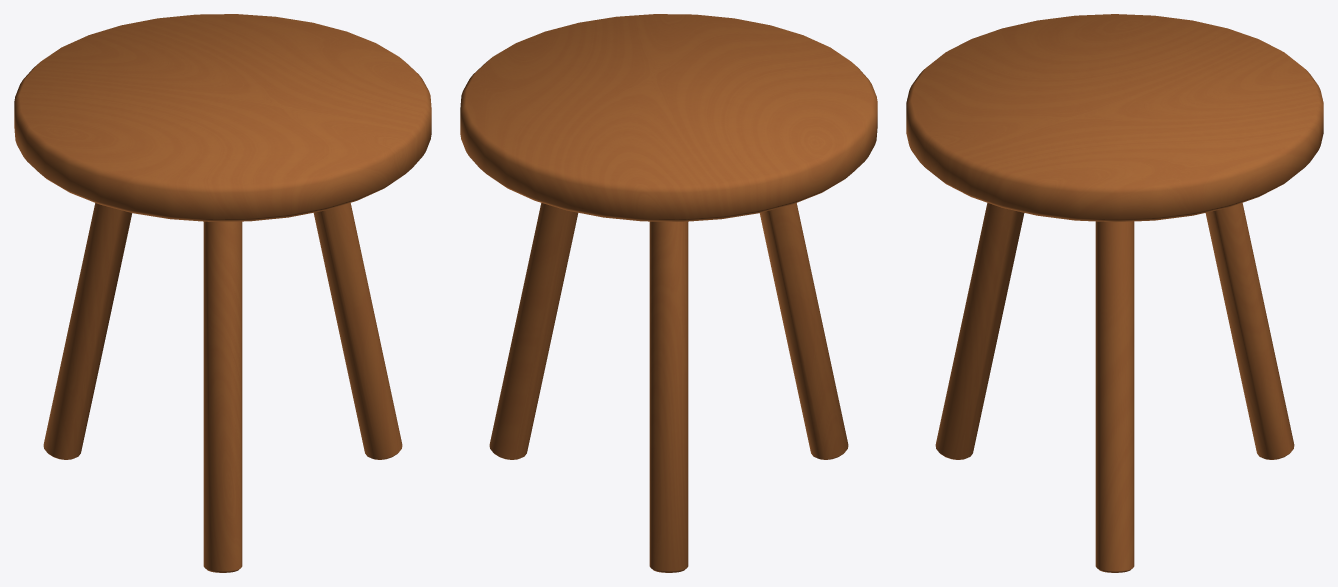
The model's file is 3_legged_wooden_stool_low_poly.glb.
3 views of the same model, side by side, from view 1: azimuth 30°, elevation 25°; view 2: azimuth 150°, elevation 25°; view 3: azimuth 270°, elevation 25° (orthographic).
Parts seen in each view (by area): view 1: Circle_0, Cylinder_1; view 2: Circle_0, Cylinder_1; view 3: Circle_0, Cylinder_1.
Boxes of the visible parts, bbox=[...] form: Circle_0: bbox=[14, 14, 431, 221]; Cylinder_1: bbox=[43, 203, 402, 572]; Circle_0: bbox=[460, 14, 877, 221]; Cylinder_1: bbox=[489, 203, 848, 572]; Circle_0: bbox=[906, 14, 1323, 222]; Cylinder_1: bbox=[935, 203, 1294, 572].
Bounding box in the file's own units: 1.84 × 1.91 × 1.84.
1 material, 1 textured.
